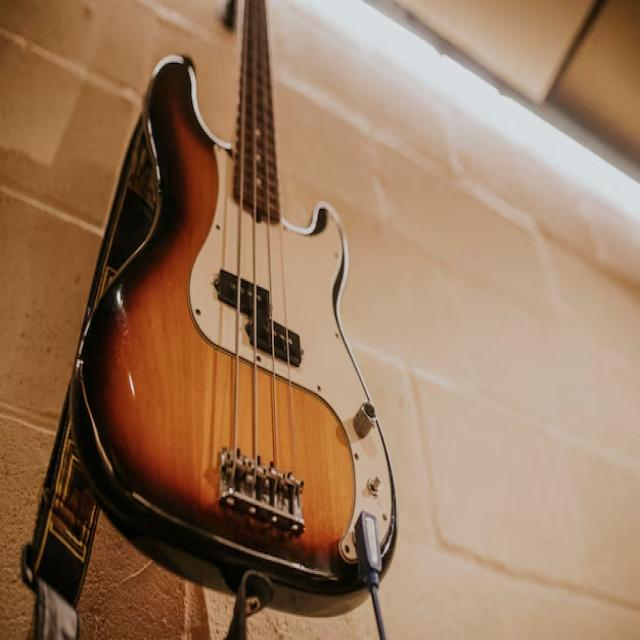bass: (71, 0, 395, 614)
